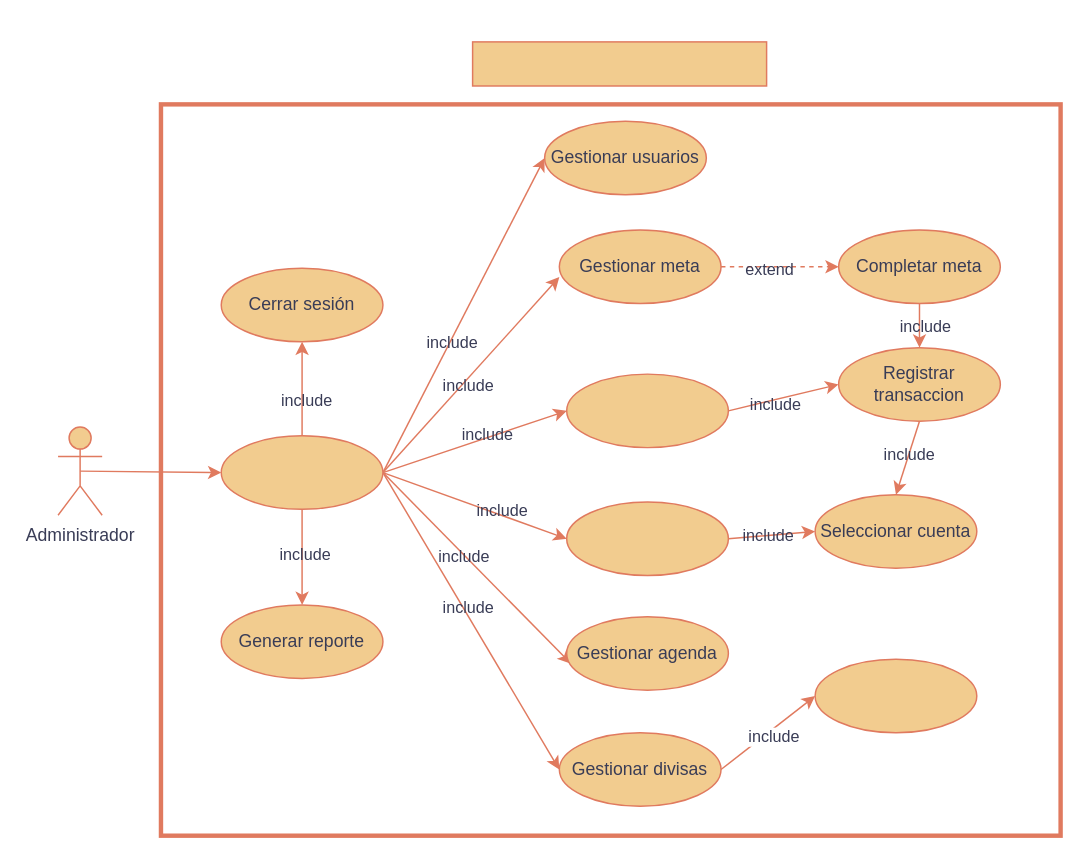
This 1088x863 diagram has some shape labels left out. Here are the shapes that lost their labels. From the top down, the centre of each, then its label:
point (619, 63): Sistema de gestión de finanzas personales "Accountly"
point (646, 410): Gestonar transacciones
point (301, 471): Iniciar sesión
point (646, 538): Gestionar cuentas
point (895, 695): Consultar divisas
